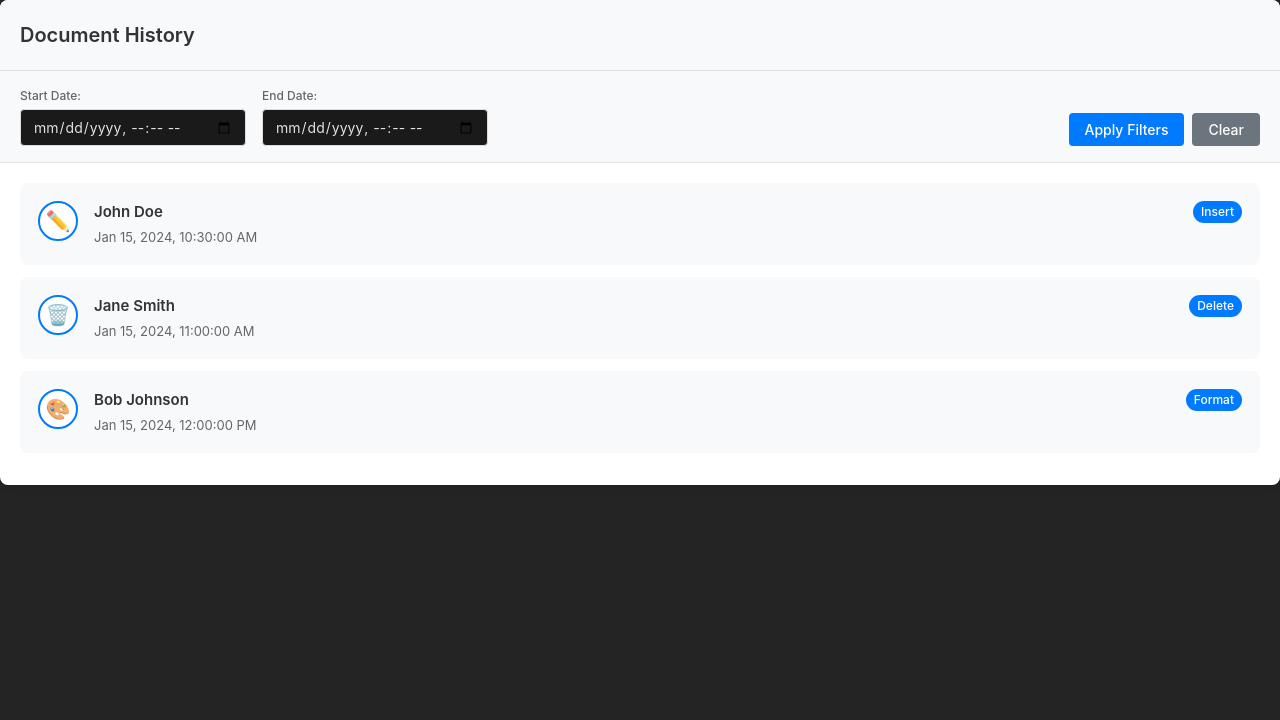
it: DocumentHistory › Version Preview › closes version preview when close button is clicked
Expected: the text "John Doe" is shown, left=94, top=201, right=163, bottom=224
Note: Open preview
Click the button "John Doe" at (58, 221), box left=20, top=183, right=1260, bottom=265
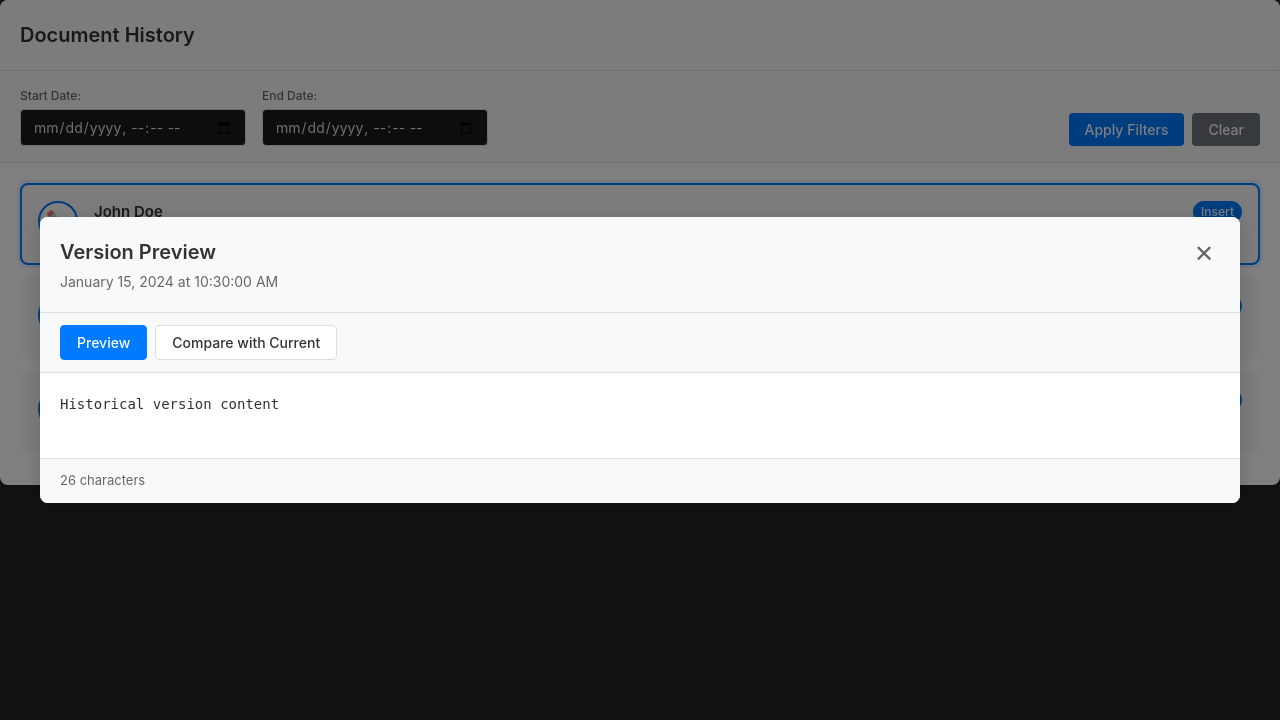
Now the heading "Version Preview" is shown, box left=60, top=240, right=216, bottom=264
Note: Close preview
Click the button named "Close preview" at (1204, 253), box left=1188, top=237, right=1220, bottom=269
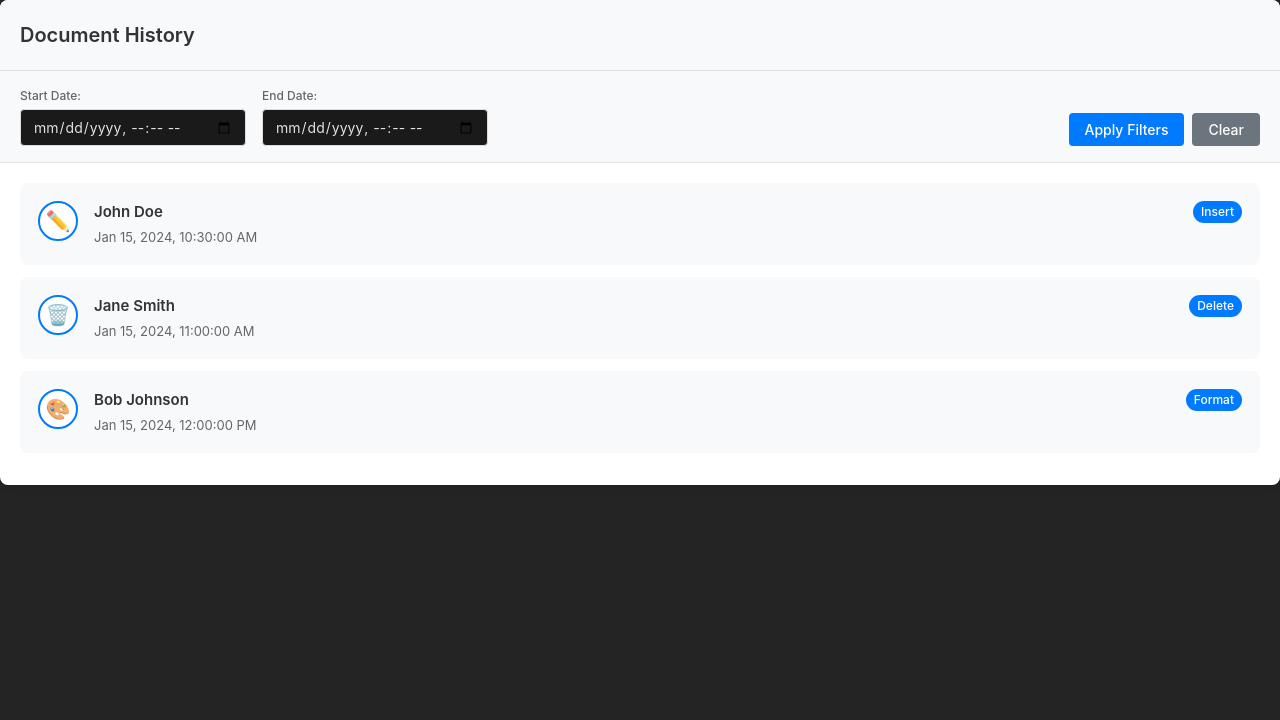
Now the heading "Version Preview" is gone
